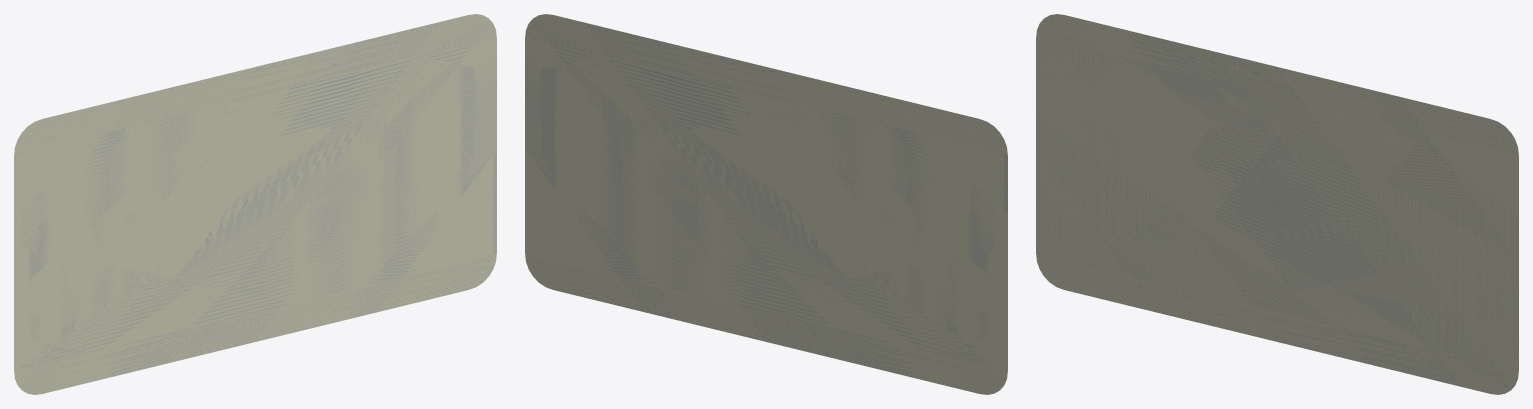
File: original-108.obj
3 views of the same model, side by side, from view 1: azimuth 30°, elevation 25°; view 2: azimuth 150°, elevation 25°; view 3: azimuth 330°, elevation 25° (orthographic).
Parts seen in each view (by area): view 1: part_2_2/part_2/mesh2/mesh2-geometry/material_1#mesh2-geometry; view 2: part_2_2/part_2/mesh2/mesh2-geometry/material_1#mesh2-geometry; view 3: part_2_2/part_2/mesh2/mesh2-geometry/material_1#mesh2-geometry.
Part boxes in pixels (x1,y1,x2,y2): part_2_2/part_2/mesh2/mesh2-geometry/material_1#mesh2-geometry: (14,14,496,394); part_2_2/part_2/mesh2/mesh2-geometry/material_1#mesh2-geometry: (525,14,1007,394); part_2_2/part_2/mesh2/mesh2-geometry/material_1#mesh2-geometry: (1036,14,1518,394).
Size of the model in its own units: 0.8168 by 0.4447 by 0.
